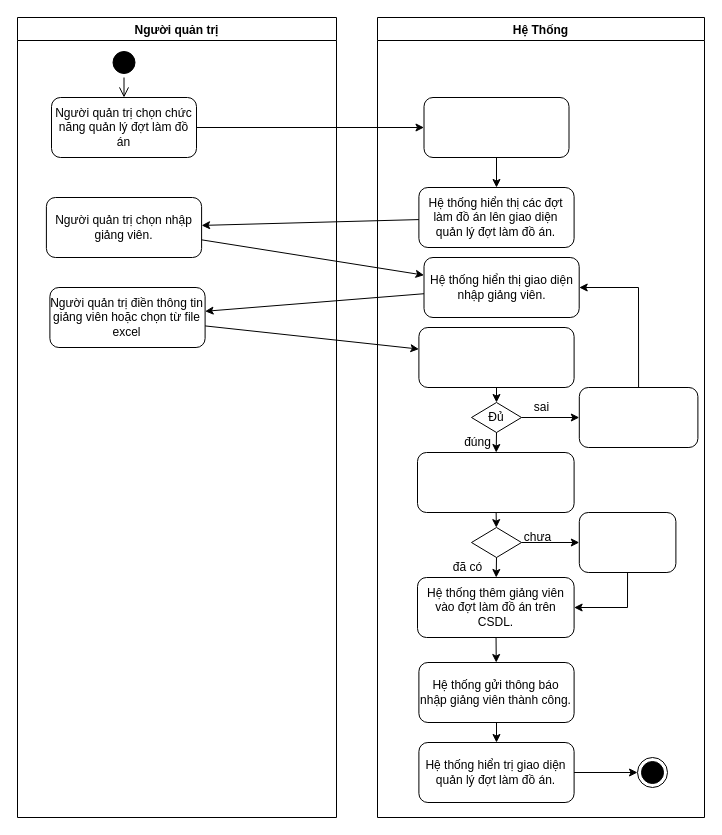
This 722x835 diagram has some shape labels left out. Here are the shapes that lost their labels. From the top down, the centre of each, then its label:
pixel 496 127: Hệ thống lấy thông tin về các đợt làm đồ án trên cơ sở dữ liệu.
pixel 496 357: Hệ thống kiểm tra thông tin đã nhập của người quản trị
pixel 638 417: Hệ thống thông báo đã nhập thiếu thông tin bắt buộc
pixel 495 482: Hệ thống kiểm tra giảng viên đã có trên CSDL hay chưa
pixel 627 542: Hệ thống thêm giảng viên vào CSDL.
